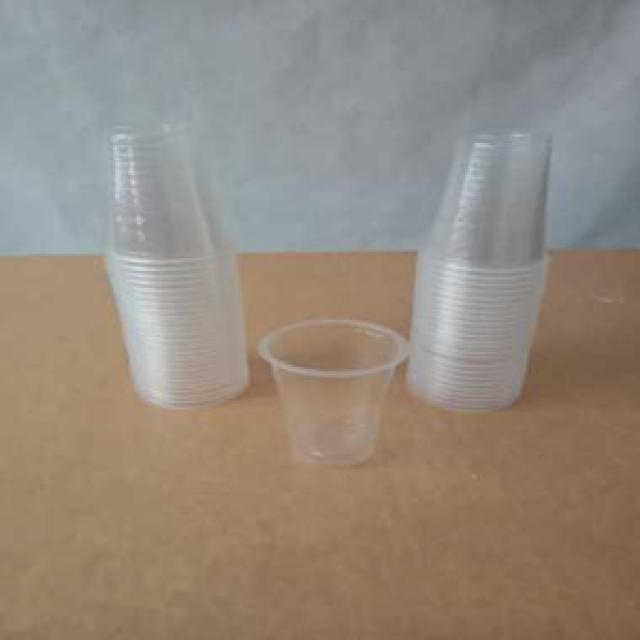plastic cup: (100, 117, 252, 412), (405, 124, 557, 418), (252, 314, 414, 469)
